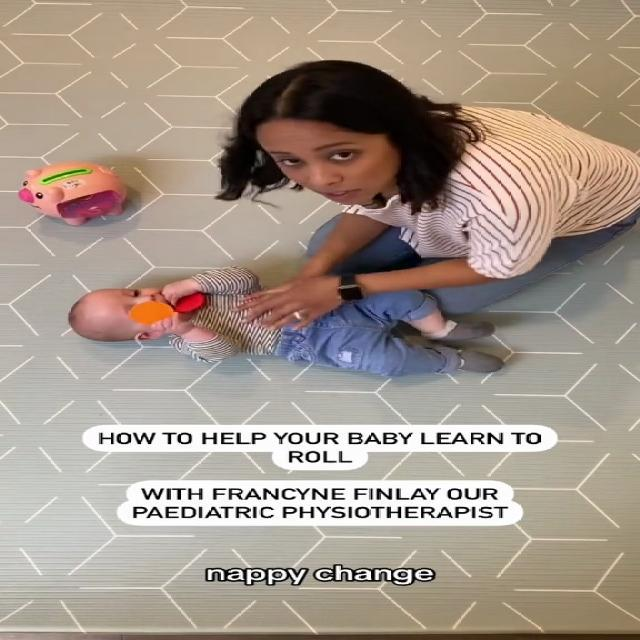baby: (68, 270, 515, 392)
